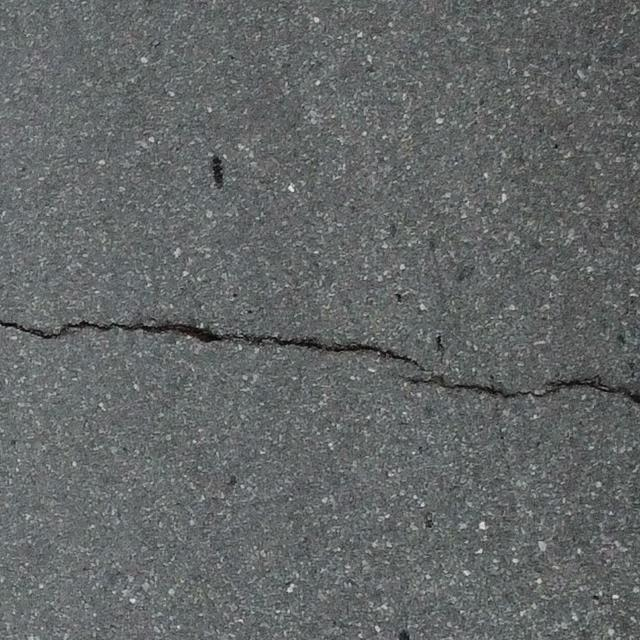TransverseCrack: (1, 315, 640, 401)
